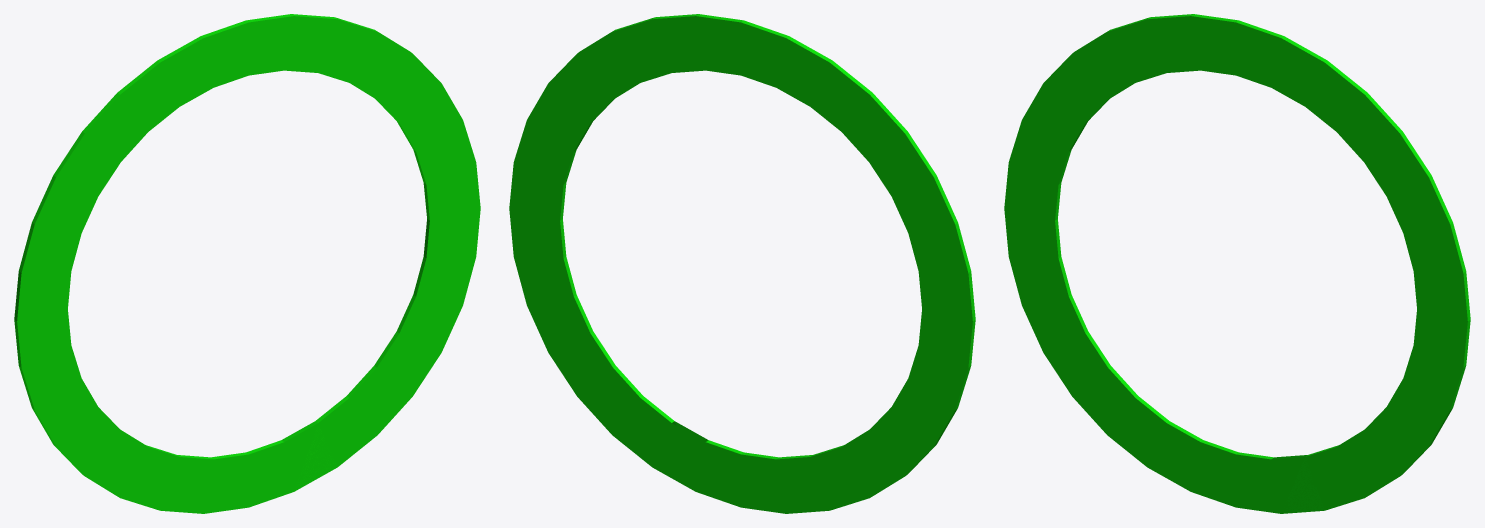
File: POI_HALO_GREEN.fbx
3 views of the same model, side by side, from view 1: azimuth 30°, elevation 25°; view 2: azimuth 150°, elevation 25°; view 3: azimuth 330°, elevation 25° (orthographic).
Parts seen in each view (by area): view 1: Circle; view 2: Circle; view 3: Circle.
Boxes of the visible parts, left/top/right/bottom form: Circle: left=14, top=14, right=480, bottom=513; Circle: left=509, top=14, right=975, bottom=513; Circle: left=1004, top=14, right=1470, bottom=513.
Bounding box in the file's own units: 200 × 200 × 2.11.
